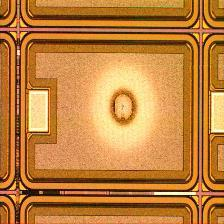BLOCK ETCH: (79, 62, 171, 154)
